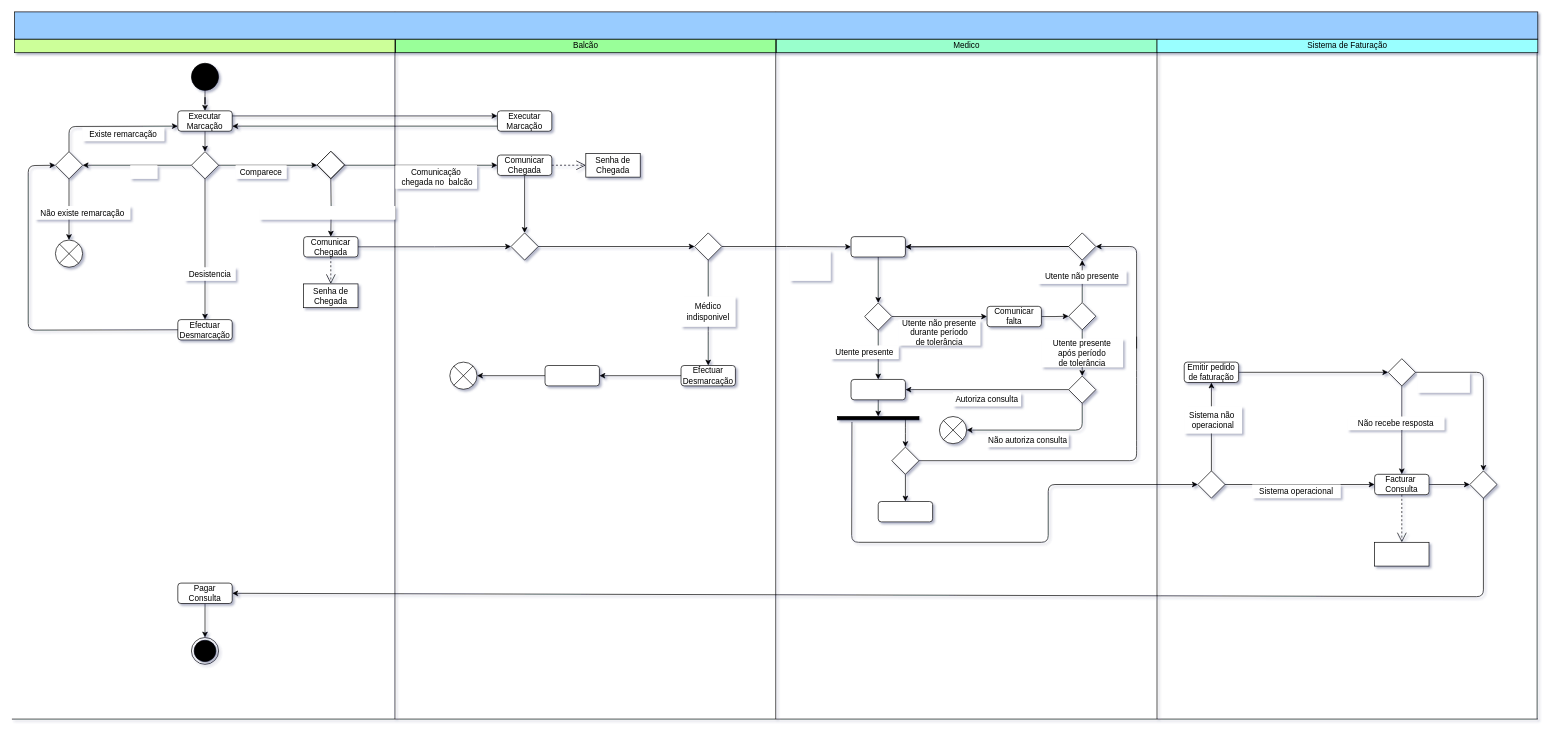
Some shapes in this 1554 by 736 pixel diagram are drawn without their labels. The shapes that lost their labels are listed below. From the top down, each one's centre as x and y in pixels, then its label:
[204,45]: Utente
[776,25]: Unidade de Consultas Externas
[143,171]: Falta
[327,212]: Comunicação de chegada via cartão
[809,265]: Médico disponivel
[877,246]: Chamar Utente
[571,375]: Aguardar remarcação
[877,389]: Efectuar Consulta
[1443,382]: Recebe resposta
[905,511]: Fechar Consulta
[1401,554]: Factura
